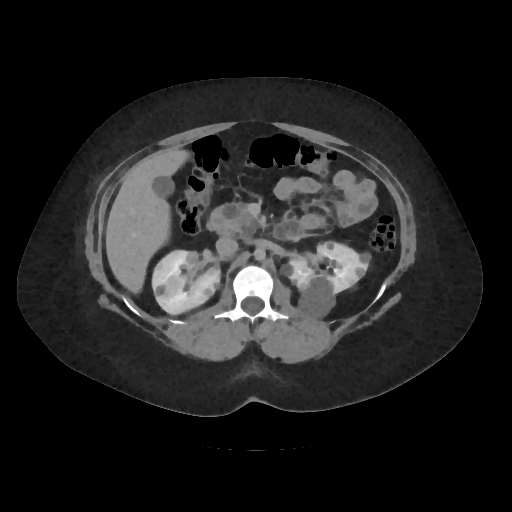Lesion: (183, 247, 200, 270)
